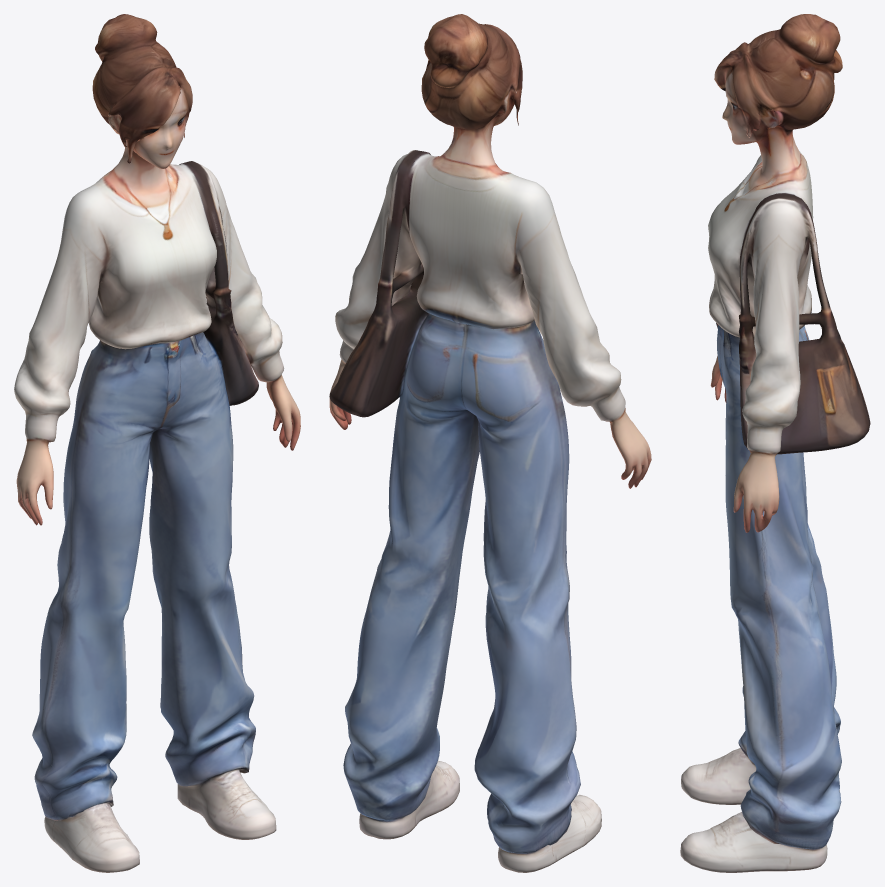
File: model-1-matte.glb
The picture shows the model from 3 angles, left to right: view 1: azimuth 30°, elevation 25°; view 2: azimuth 150°, elevation 25°; view 3: azimuth 270°, elevation 25°; orthographic projection. The views are drawn at different scales.
Parts seen in each view (by area): view 1: model; view 2: model; view 3: model.
Part boxes in pixels (bbox=[...]): model: bbox=[14, 14, 300, 872]; model: bbox=[329, 14, 651, 872]; model: bbox=[680, 14, 870, 872].
Bounding box in the file's own units: 0.6894 × 1.83 × 0.3894.
1 material, 1 textured.
